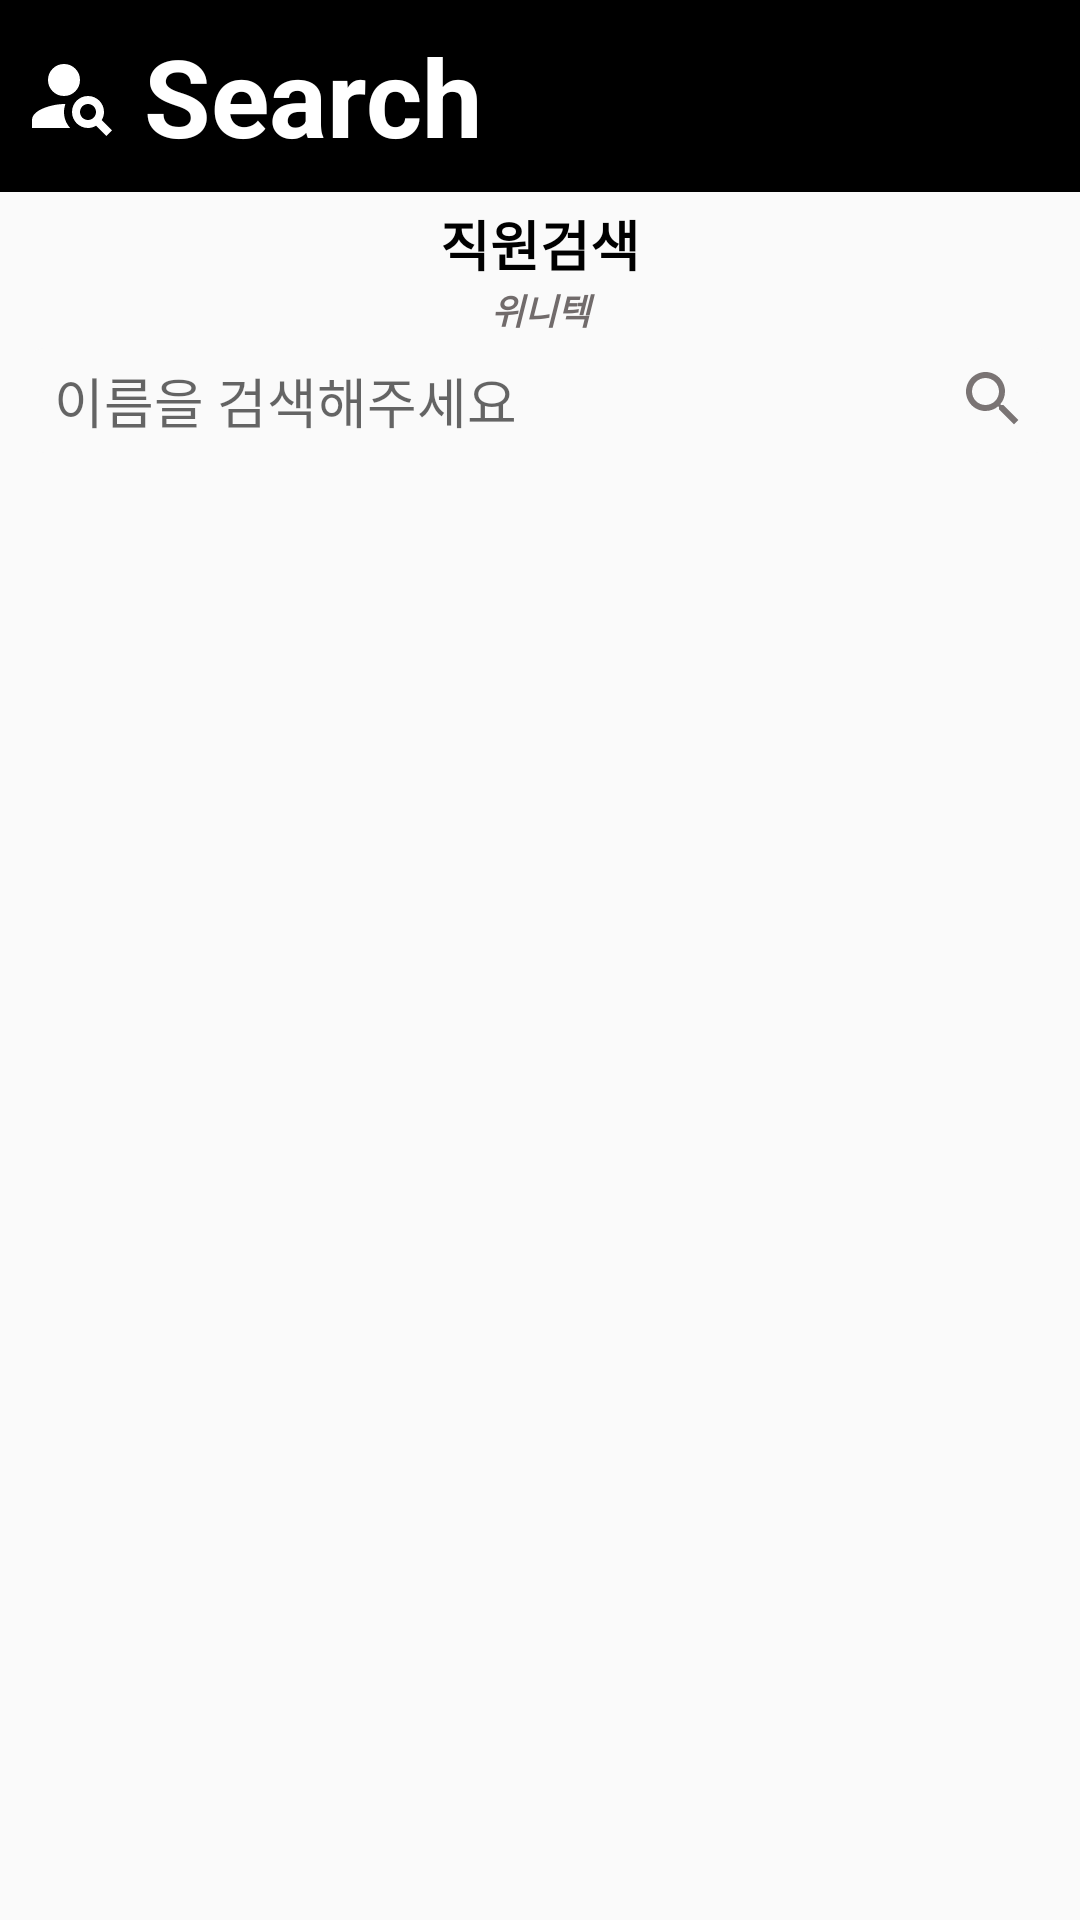

Named icons in this screenshot (1080*1920) and their bounding boxes, [x1,y1,x2,y2]:
search: [966,372,1018,424]
